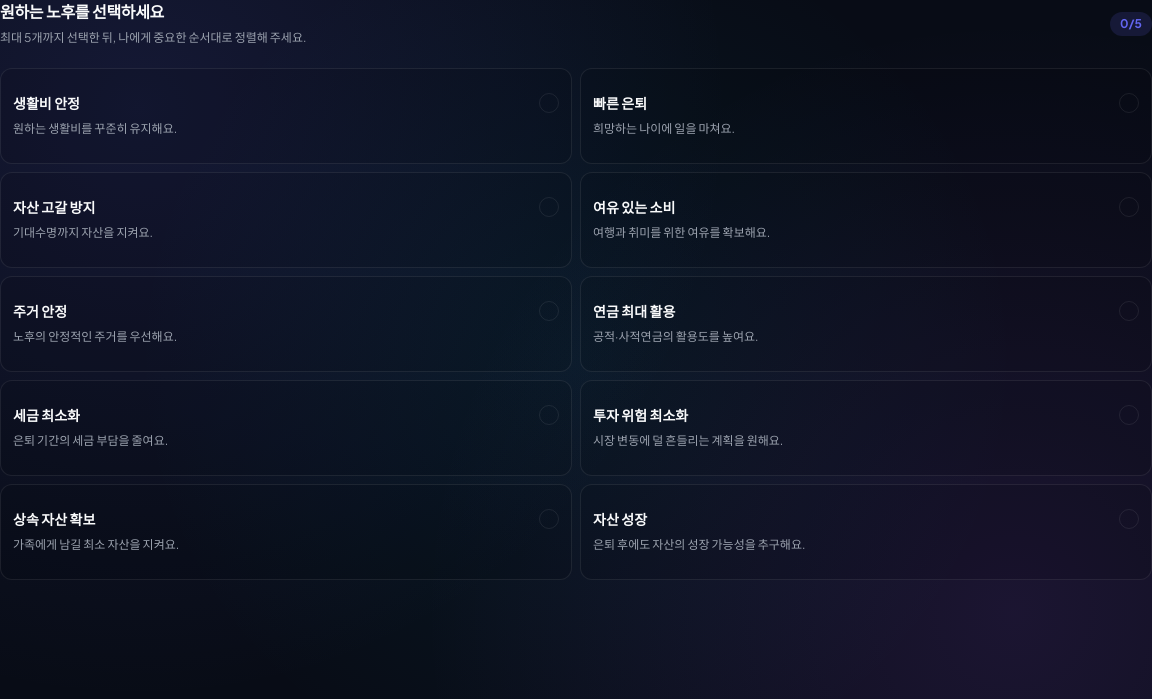
Test: RetirementGoalSelector › 5개를 선택하면 나머지 목표 선택을 비활성화한다
Click the button "생활비 안정 원하는 생활비를 꾸준히 유지해요.". click: point(46, 103)
box: [0,68,572,164]
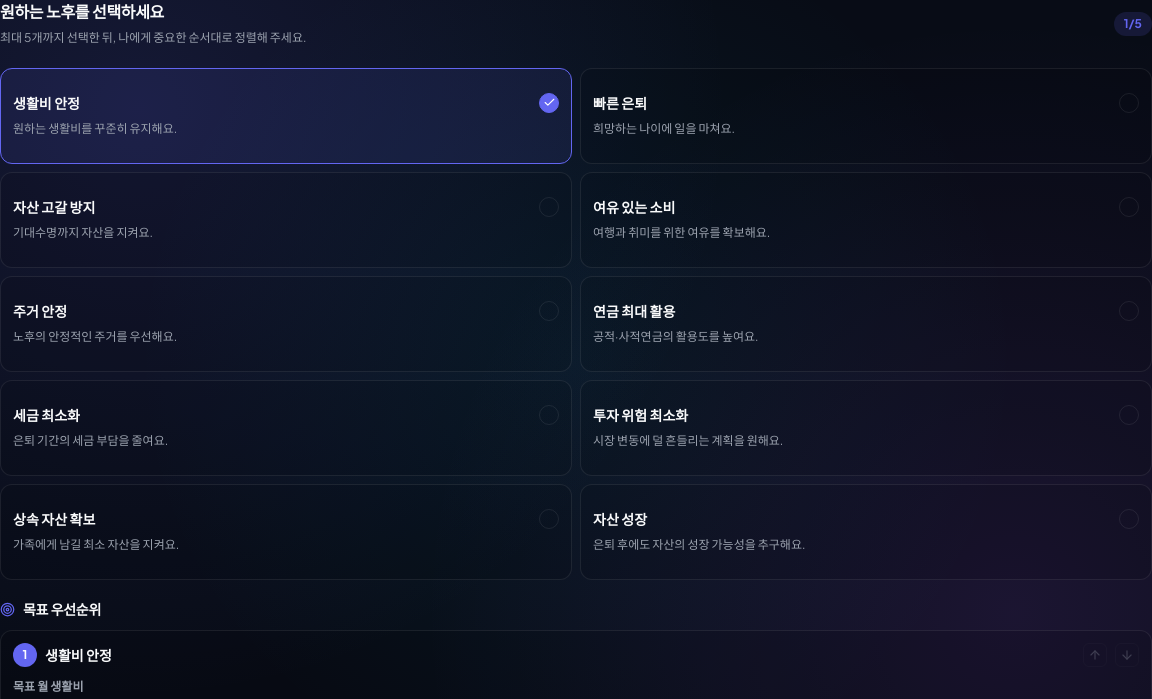
Click the button "빠른 은퇴 희망하는 나이에 일을 마쳐요.". click: point(620, 103)
box: [580,68,1151,164]
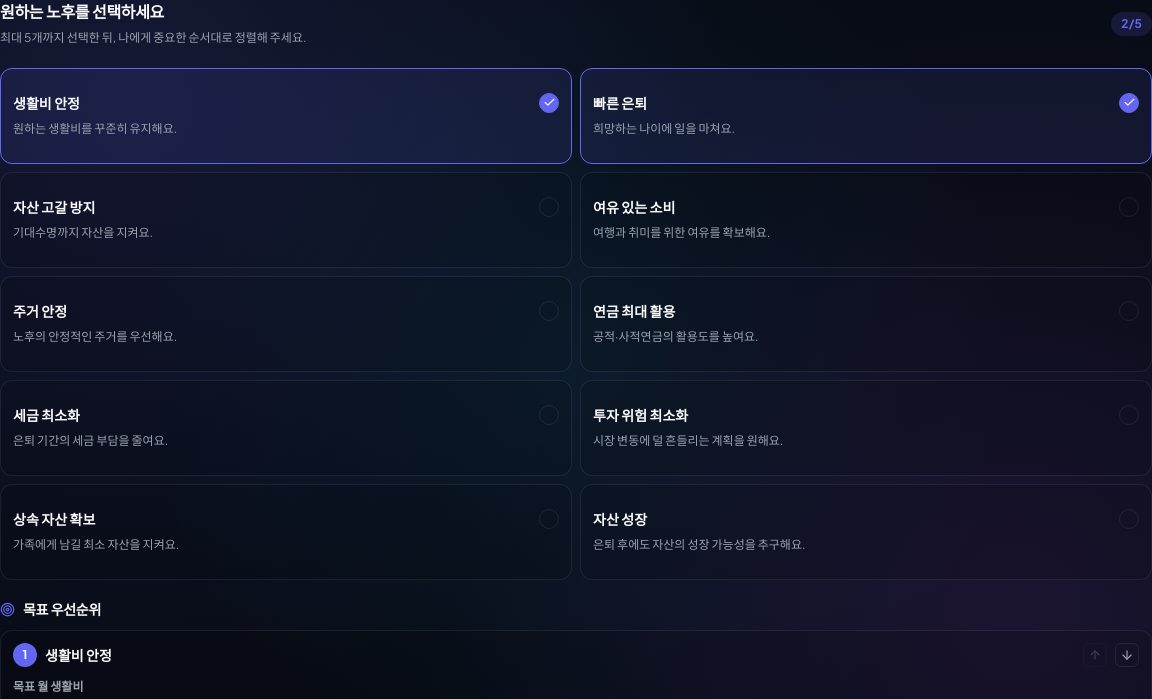
Click the button "자산 고갈 방지 기대수명까지 자산을 지켜요.". click: point(54, 207)
box: [0,172,572,268]
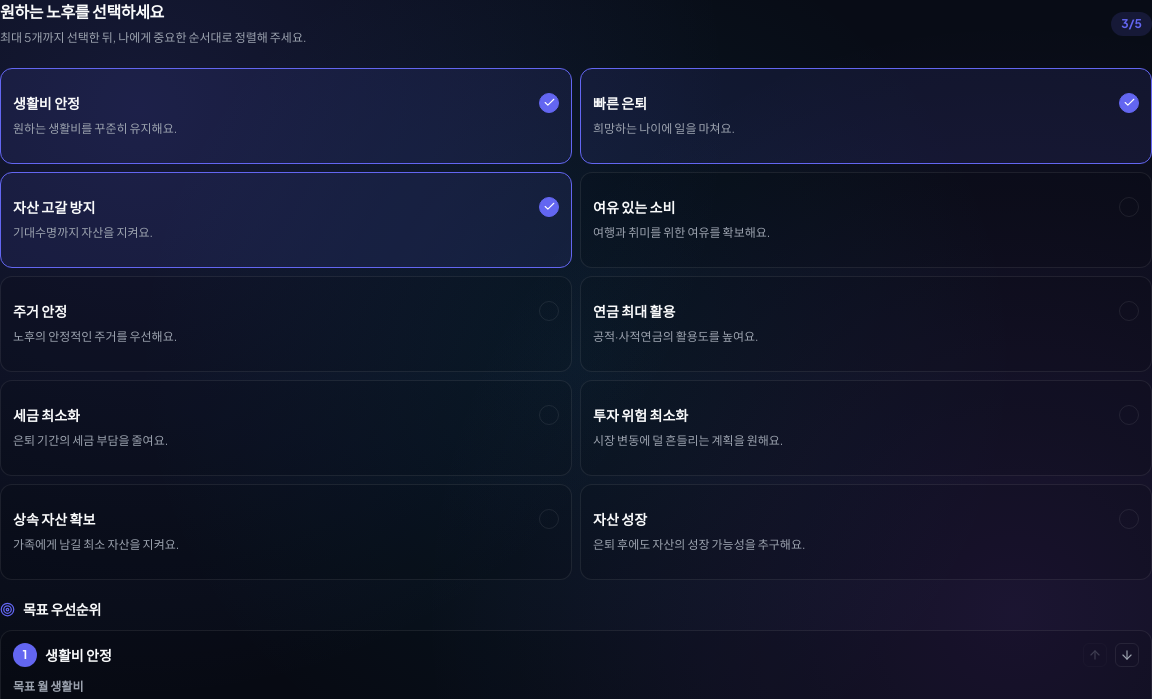
Click the button "여유 있는 소비 여행과 취미를 위한 여유를 확보해요.". click: point(634, 207)
box: [580,172,1151,268]
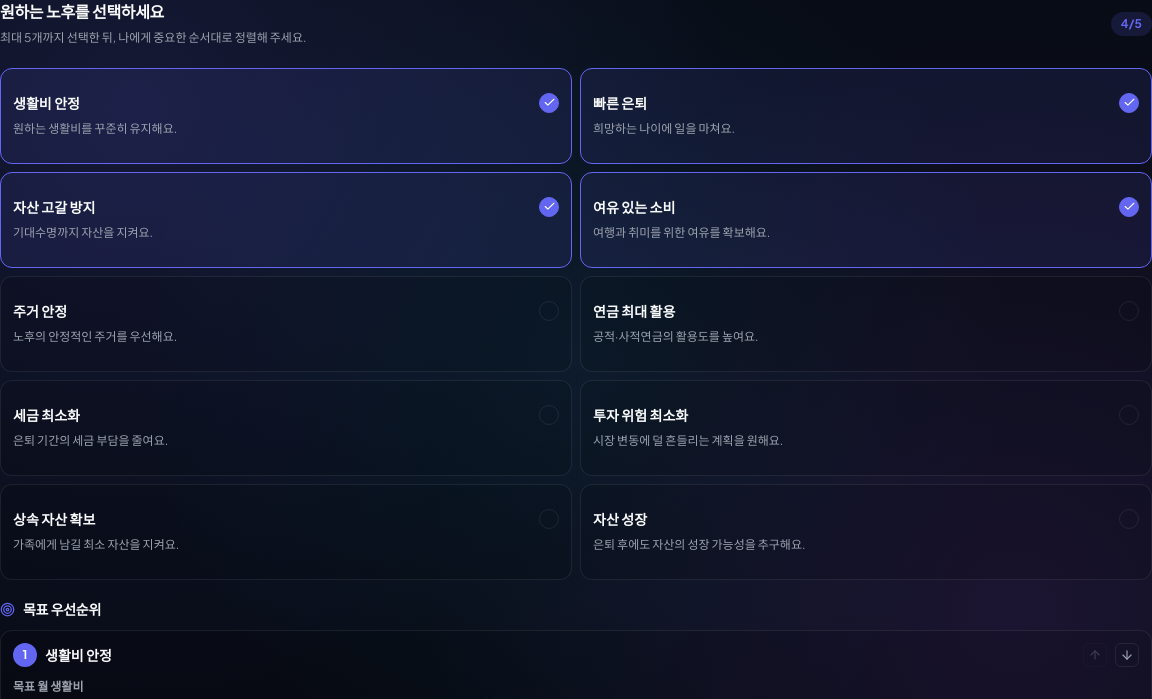
Click the button "주거 안정 노후의 안정적인 주거를 우선해요.". click: point(40, 311)
box: [0,276,572,372]
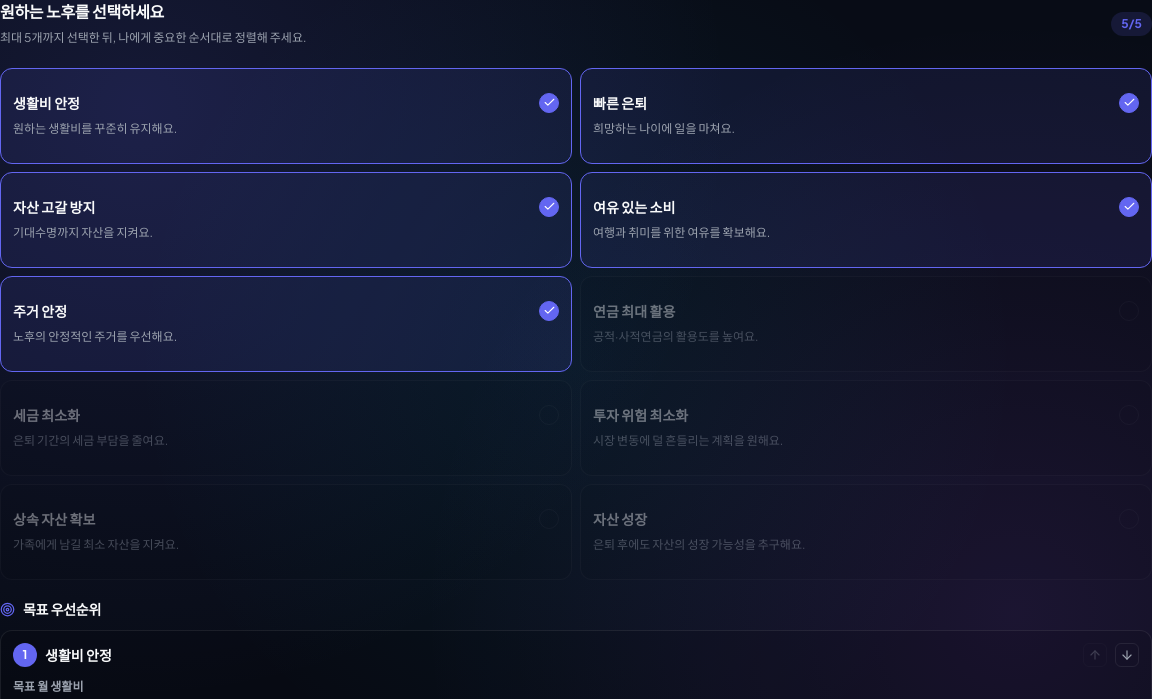
Expected: the text "5/5" is shown, [1111,12,1151,36]
Expected: the button "연금 최대 활용 공적·사적연금의 활용도를 높여요." is disabled, [580,276,1151,372]
